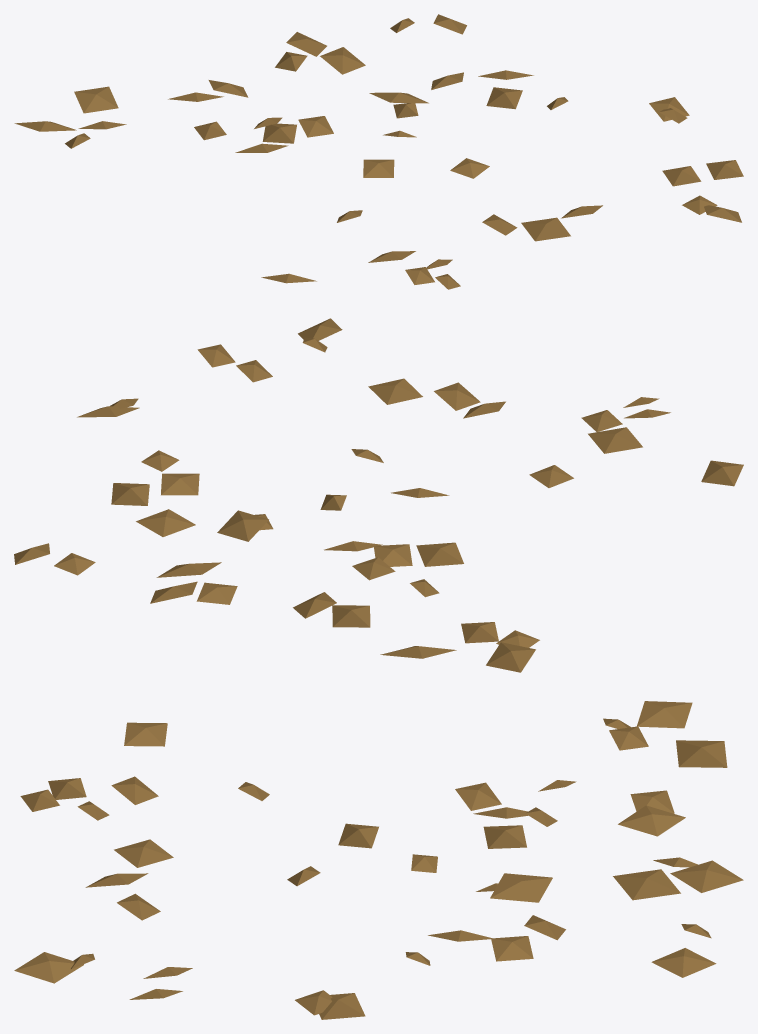
Rendered from fallen-leaf-patch.glb.
3 views of the same model, one above another, from view 1: azimuth 30°, elevation 25°; view 2: azimuth 150°, elevation 25°; view 3: azimuth 270°, elevation 25° (orthographic). The views are drawn at different scales.
Visible parts, largest first — view 1: fallen-leaf-patch; view 2: fallen-leaf-patch; view 3: fallen-leaf-patch.
Boxes of the visible parts, <box> form: fallen-leaf-patch: <box>14,14,743,289</box>; fallen-leaf-patch: <box>14,318,743,672</box>; fallen-leaf-patch: <box>14,701,743,1019</box>.
Bounding box in the file's own units: 1.47 × 0.0432 × 1.46.
